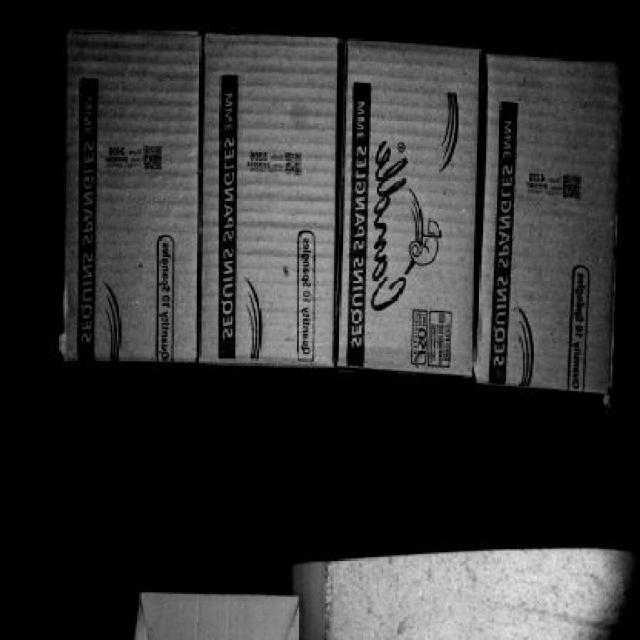cardboxes: (471, 54, 618, 392), (60, 17, 194, 361), (333, 52, 478, 368), (198, 34, 334, 358)
